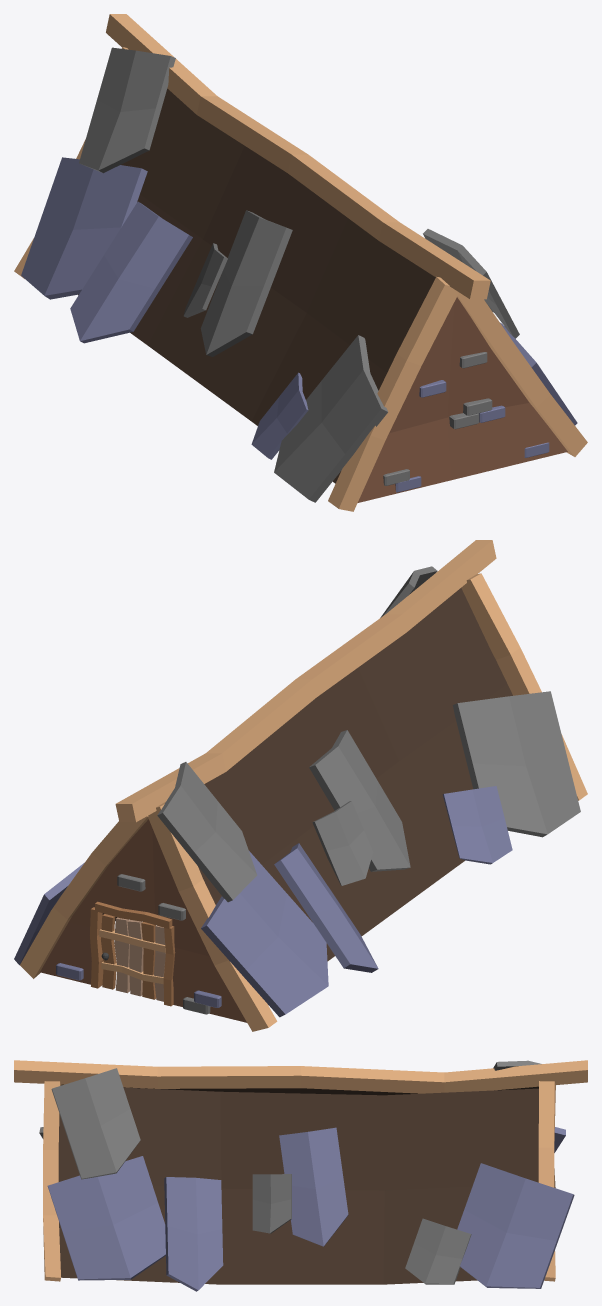
File: witch house 3.fbx
The picture shows the model from 3 angles, top to bottom: view 1: azimuth 30°, elevation 25°; view 2: azimuth 150°, elevation 25°; view 3: azimuth 270°, elevation 25°; orthographic projection. The views are drawn at different scales.
Visible parts, largest first — view 1: Plane, Plane.003, Cube.004, Plane.007, Plane.010, Plane.008, Plane.009, Plane.012, Cube.003, Cube.002, Plane.011, Plane.016 (+2 smaller); view 2: Plane, Plane.010, Cube.004, Plane.007, Plane.002, Plane.009, Plane.012, Cube.001, Plane.008, Plane.011, Cube, Cube.003 (+10 smaller); view 3: Plane.001, Cube.004, Plane.014, Plane.017, Plane.016, Plane.015, Plane.019, Plane.018, Cube.002, Plane.020, Cube, Plane.
Boxes of the visible parts, x1,y1,x2,y2 form: Plane: [78, 88, 435, 483]; Plane.003: [357, 297, 567, 502]; Cube.004: [106, 14, 490, 299]; Plane.007: [21, 157, 147, 299]; Plane.010: [274, 335, 387, 502]; Plane.008: [70, 201, 192, 343]; Plane.009: [79, 47, 175, 173]; Plane.012: [200, 210, 292, 356]; Cube.003: [328, 276, 458, 511]; Cube.002: [457, 292, 587, 456]; Plane.011: [251, 372, 308, 459]; Plane.016: [423, 229, 519, 338]; Plane: [198, 588, 512, 961]; Plane.010: [452, 691, 580, 837]; Cube.004: [115, 540, 496, 822]; Plane.007: [201, 851, 328, 1017]; Plane.002: [40, 819, 246, 1022]; Plane.009: [157, 762, 257, 902]; Plane.012: [309, 730, 410, 871]; Cube.001: [148, 801, 277, 1031]; Plane.008: [274, 843, 378, 972]; Plane.011: [442, 786, 512, 864]; Cube: [20, 816, 148, 978]; Cube.003: [461, 573, 587, 800]; Plane.001: [58, 1085, 538, 1284]; Cube.004: [14, 1060, 587, 1093]; Plane.014: [47, 1156, 165, 1280]; Plane.017: [457, 1163, 574, 1288]; Plane.016: [51, 1068, 140, 1179]; Plane.015: [164, 1177, 223, 1291]; Plane.019: [279, 1127, 348, 1246]; Plane.018: [405, 1218, 471, 1284]; Cube.002: [43, 1081, 60, 1281]; Plane.020: [252, 1174, 291, 1233]; Cube: [538, 1081, 555, 1281]; Plane: [61, 1084, 538, 1095].
Size of the model in its own units: 549 by 394 by 1149.
